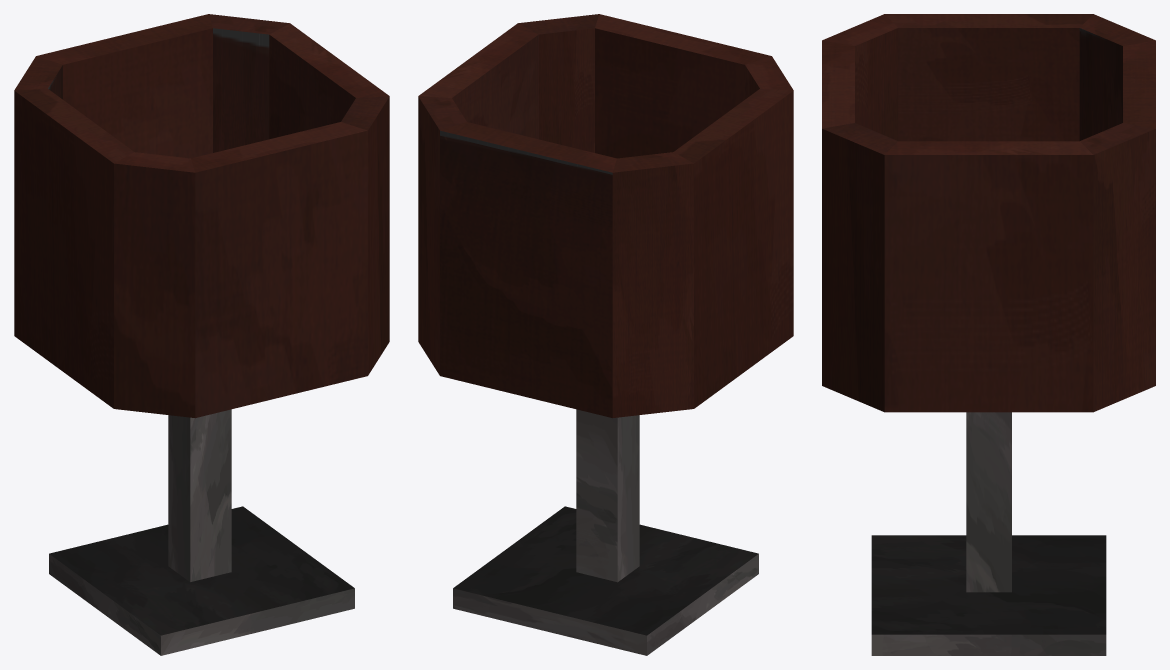
The model's file is M-SmallLamp.fbx.
3 views of the same model, side by side, from view 1: azimuth 30°, elevation 25°; view 2: azimuth 150°, elevation 25°; view 3: azimuth 270°, elevation 25° (orthographic). The views are drawn at different scales.
Visible parts, largest first — view 1: Cube.005; view 2: Cube.005; view 3: Cube.005.
Part boxes in pixels (left/top/right/bottom): Cube.005: left=14, top=14, right=389, bottom=655; Cube.005: left=418, top=14, right=793, bottom=655; Cube.005: left=822, top=14, right=1155, bottom=655.
Size of the model in its own units: 10.15 by 10.15 by 17.5.
1 material, 1 textured.
